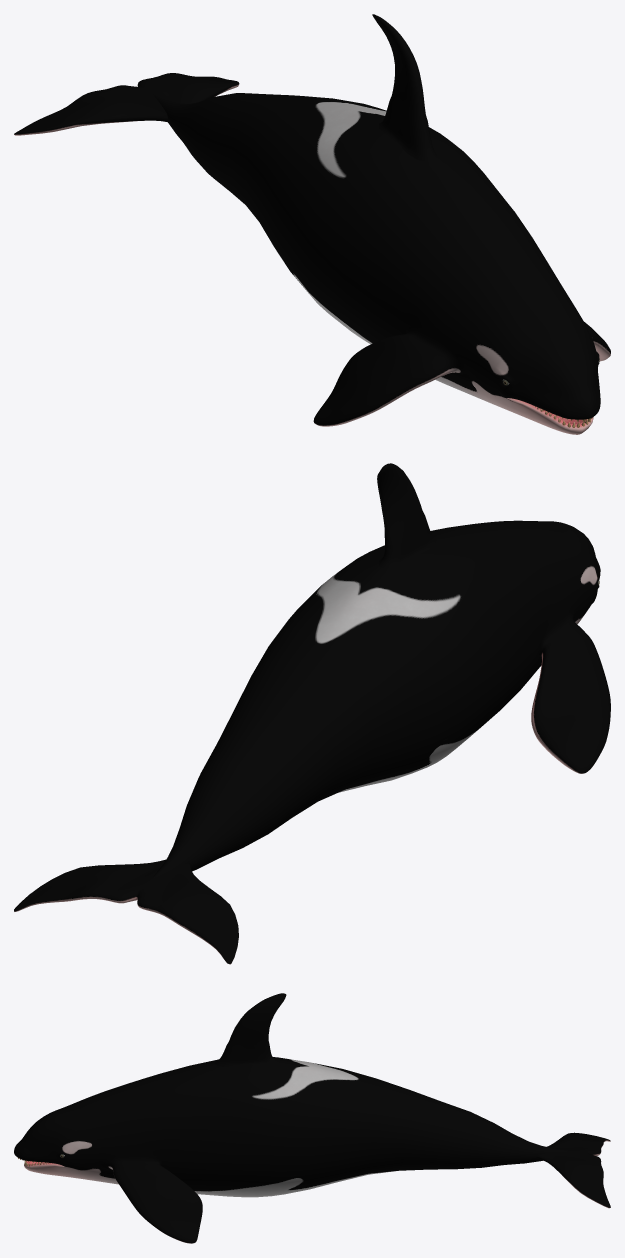
The model's file is orca-bought.glb.
3 views of the same model, one above another, from view 1: azimuth 30°, elevation 25°; view 2: azimuth 150°, elevation 25°; view 3: azimuth 270°, elevation 25° (orthographic). The views are drawn at different scales.
Visible parts, largest first — view 1: MS_Orca; view 2: MS_Orca; view 3: MS_Orca.
Boxes of the visible parts, bbox=[...] form: MS_Orca: bbox=[14, 14, 610, 434]; MS_Orca: bbox=[14, 463, 610, 964]; MS_Orca: bbox=[14, 993, 610, 1243].
Bounding box in the file's own units: 1.67 × 1.89 × 4.93.
Materials: 1 (1 with a texture image).
